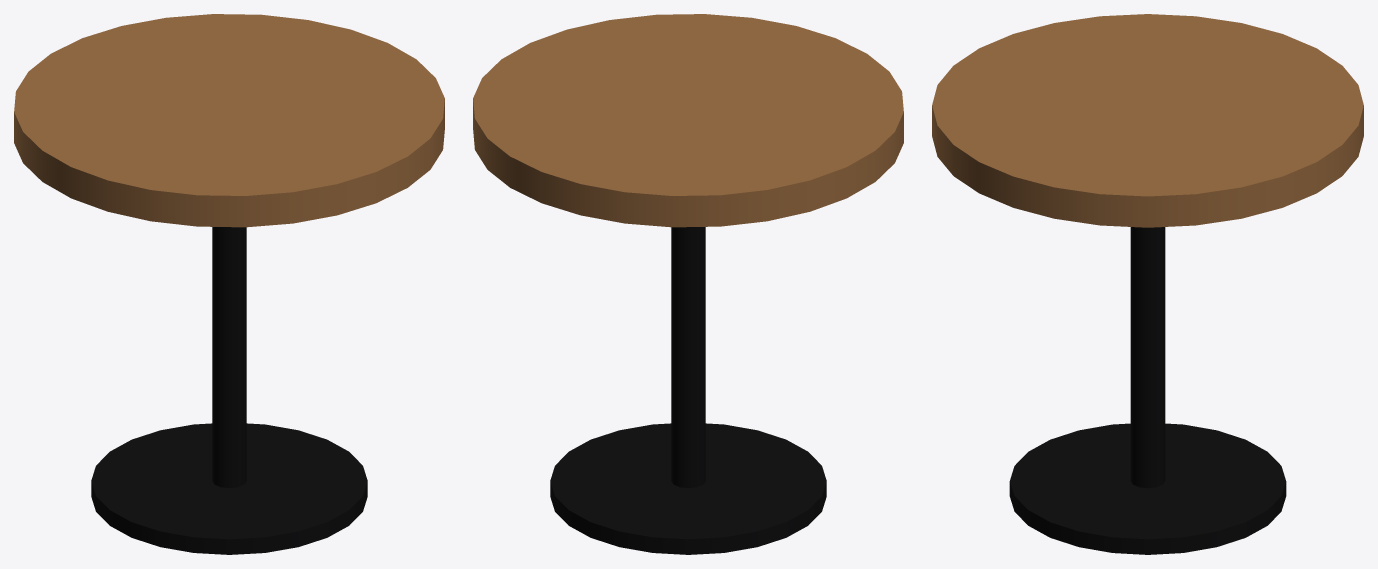
Rendered from Table_Side.glb.
3 renders of one model, left to right at view 1: azimuth 30°, elevation 25°; view 2: azimuth 150°, elevation 25°; view 3: azimuth 270°, elevation 25°, orthographic.
Visible parts, largest first — view 1: Table_Side; view 2: Table_Side; view 3: Table_Side.
Part boxes in pixels (x1=…): Table_Side: x1=14, y1=14, x2=444, y2=554; Table_Side: x1=473, y1=14, x2=903, y2=554; Table_Side: x1=932, y1=14, x2=1363, y2=554.
Bounding box in the file's own units: 0.5 × 0.5 × 0.5.
